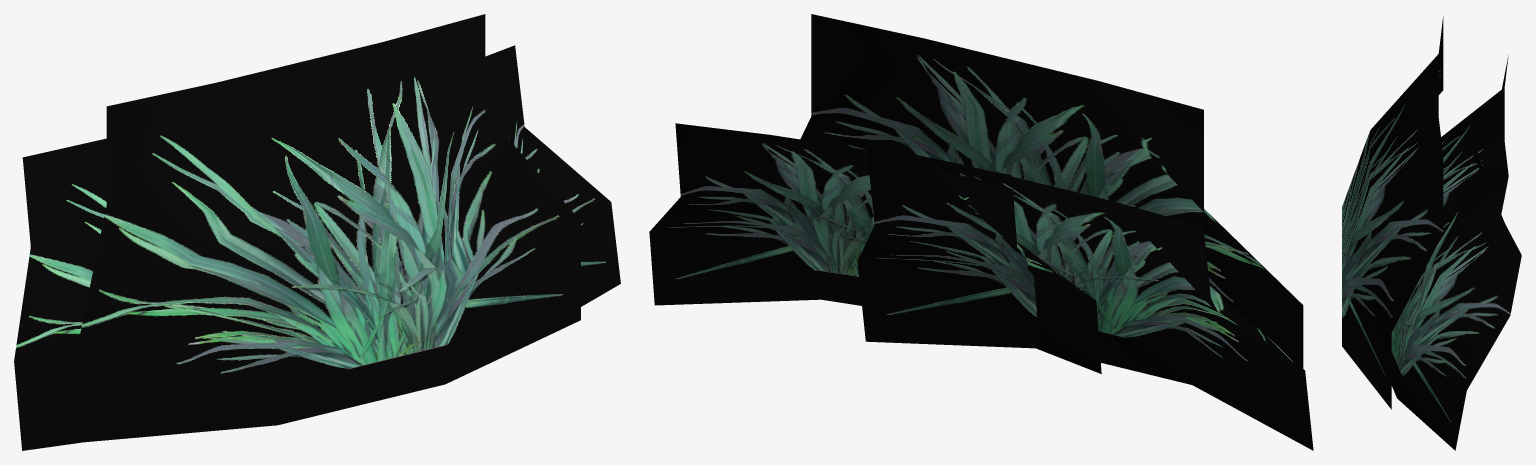
The model's file is grass2.fbx.
3 views of the same model, side by side, from view 1: azimuth 30°, elevation 25°; view 2: azimuth 150°, elevation 25°; view 3: azimuth 270°, elevation 25° (orthographic). The views are drawn at different scales.
Visible parts, largest first — view 1: Plane014; view 2: Plane014; view 3: Plane014.
Boxes of the visible parts, x1,y1,x2,y2 form: Plane014: (14,14,620,450); Plane014: (649,14,1313,450); Plane014: (1342,16,1521,450).
Size of the model in its own units: 1.67 by 0.8108 by 0.5445.
Materials: 1 (1 with a texture image).
